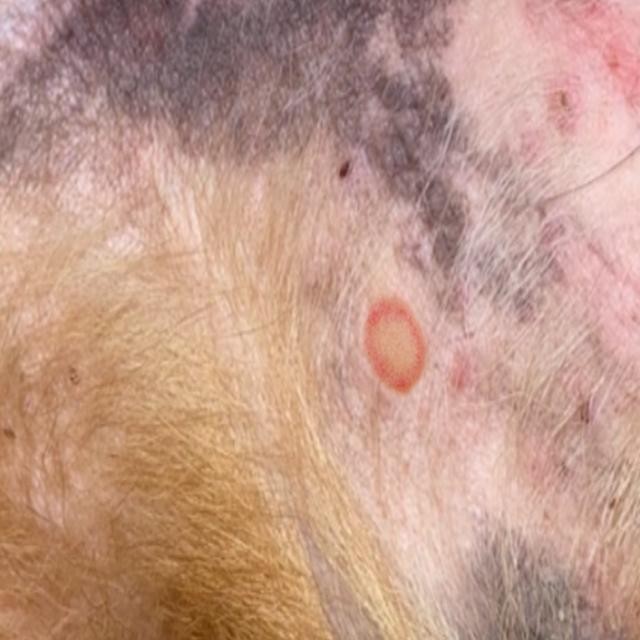ringworm: (351, 286, 443, 407)
